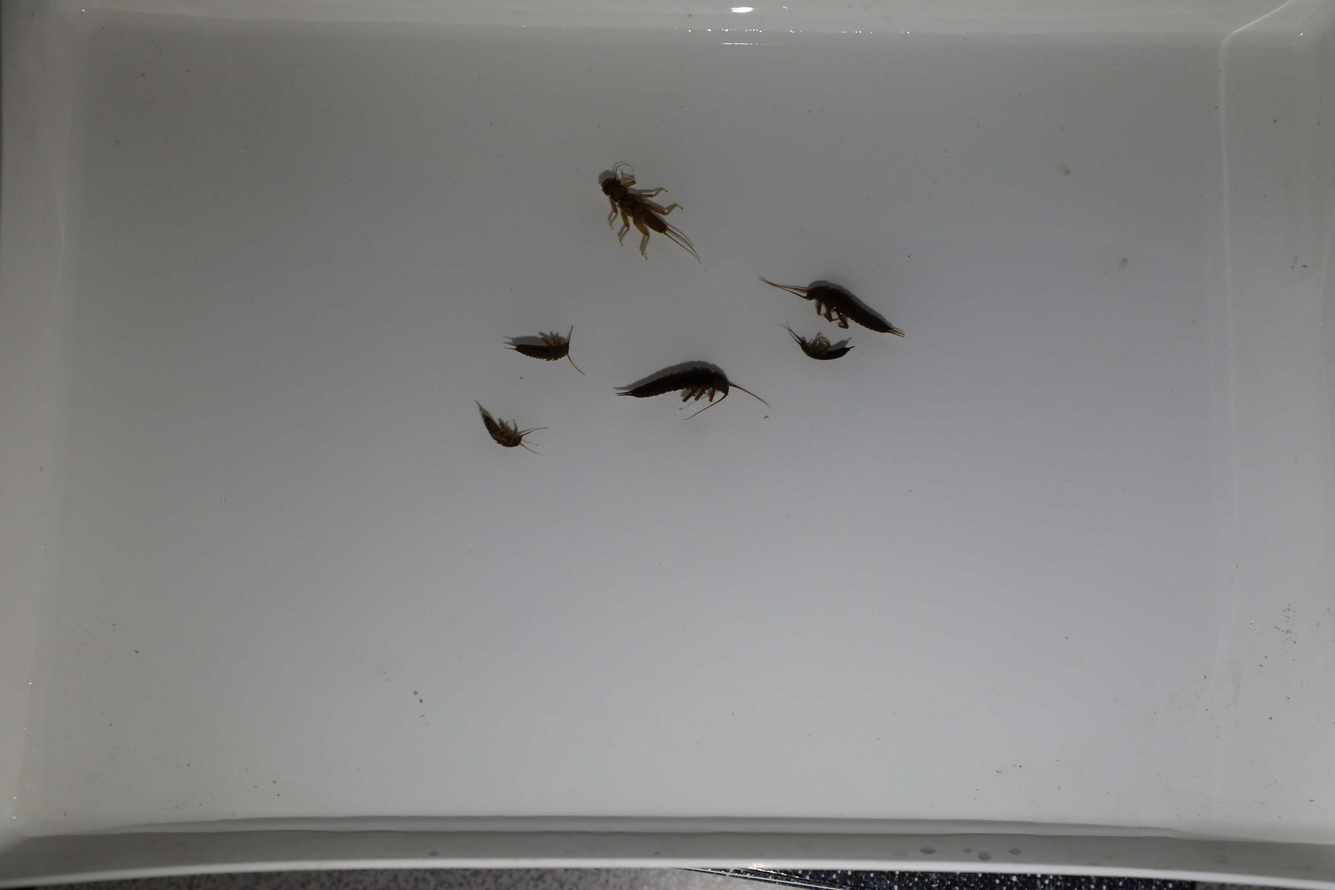Stonefly: (599, 167, 702, 279), (608, 363, 771, 426), (761, 267, 902, 338), (472, 400, 555, 459), (507, 324, 583, 380), (783, 322, 854, 363)
